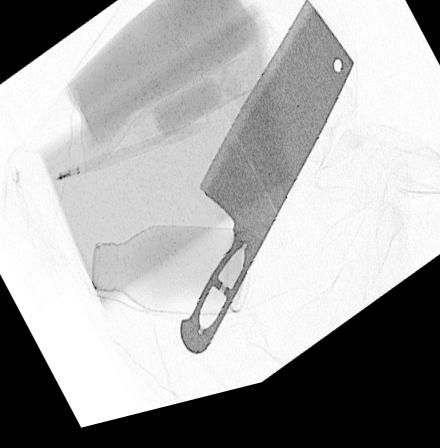Knife: (178, 11, 356, 365)
